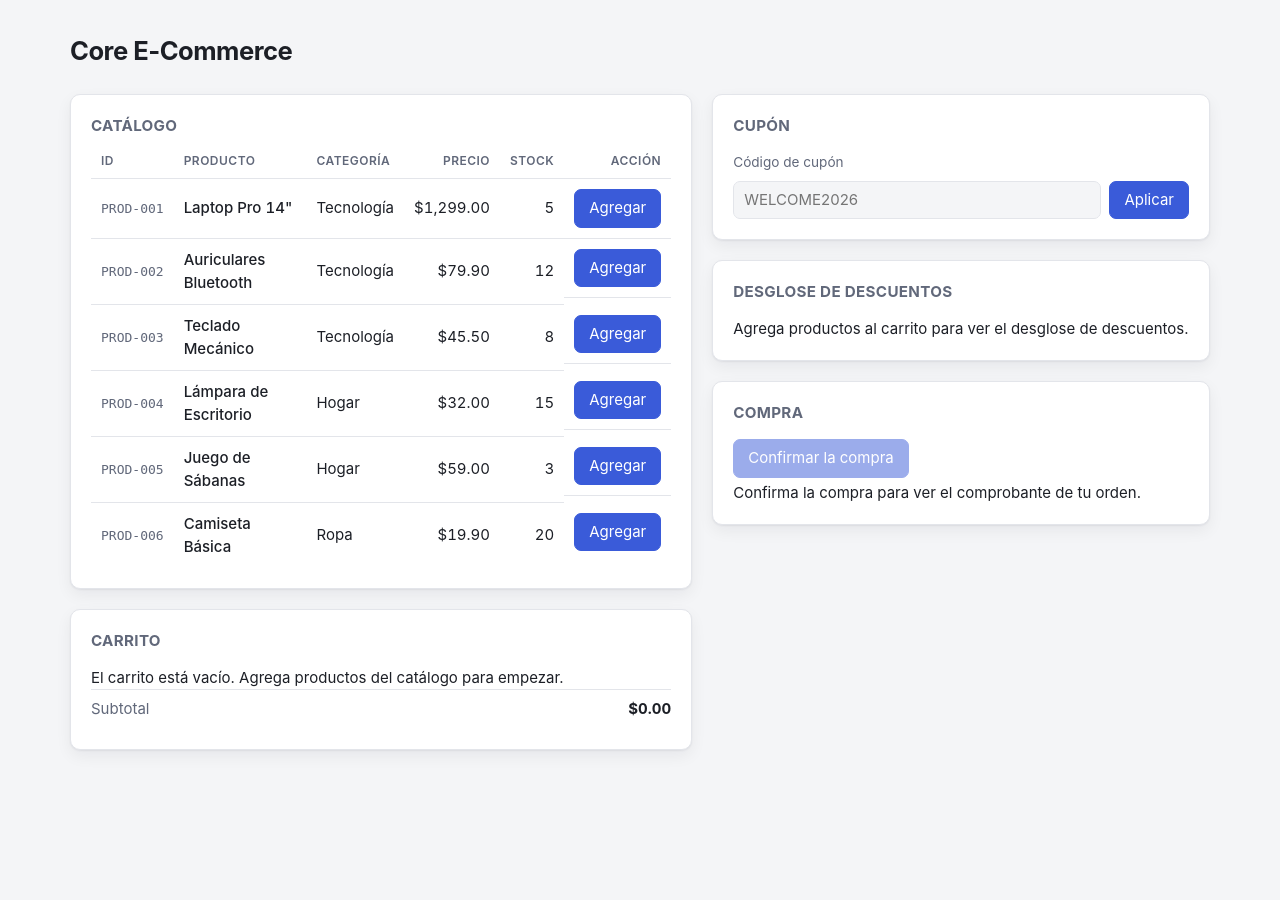
Test case: agregar actualiza el subtotal visible (FC-R5.4, FC-R6.5) › un clic en Agregar reemplaza el mensaje de vacio por la linea
Click the button "Agregar" in the row of "PROD-001" at (618, 208), box [574,189,661,228]
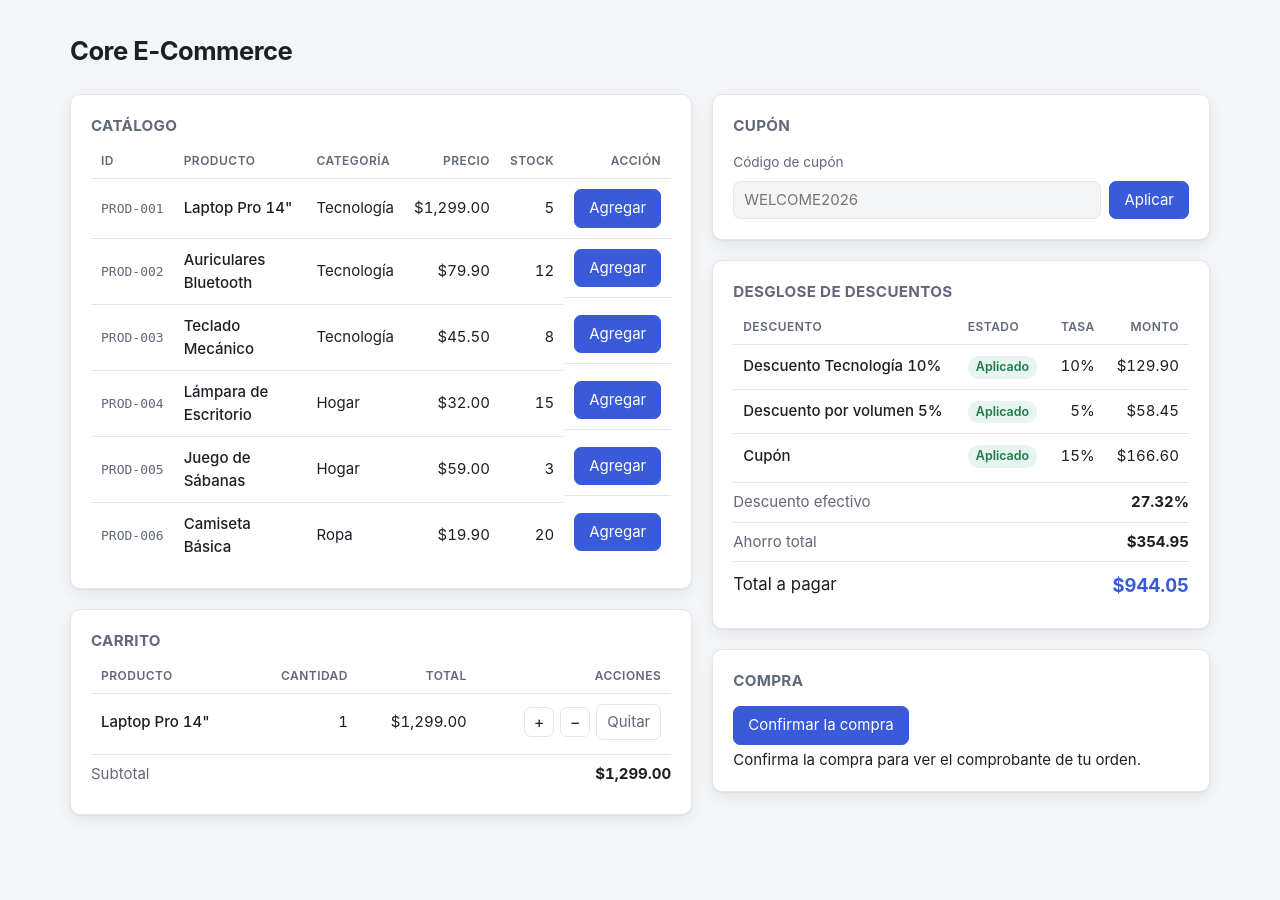
expect the text "El carrito está vacío. Agrega productos del catálogo para empezar." is gone: met
expect the column heading "Laptop Pro 14\"" below "Cantidad" is shown: met, box [91,694,250,750]
